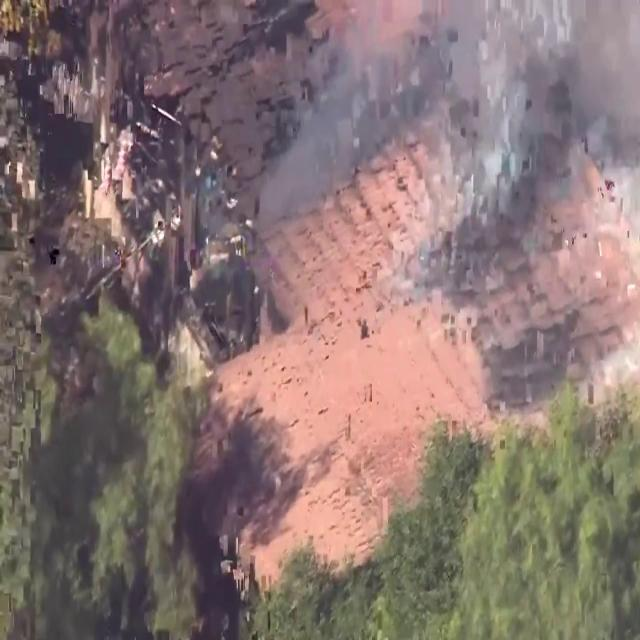Smoke: (249, 0, 639, 219)
